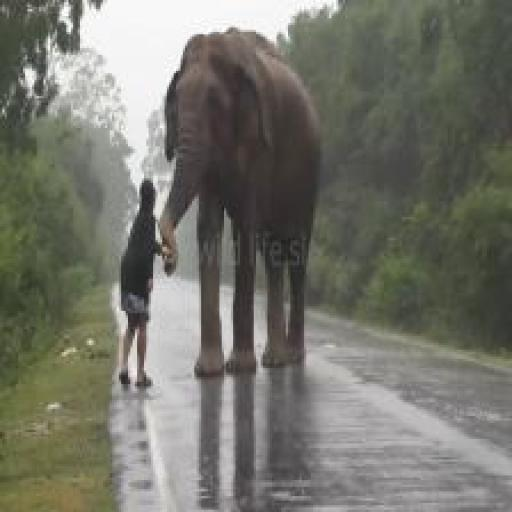Elephant: (148, 20, 350, 415)
